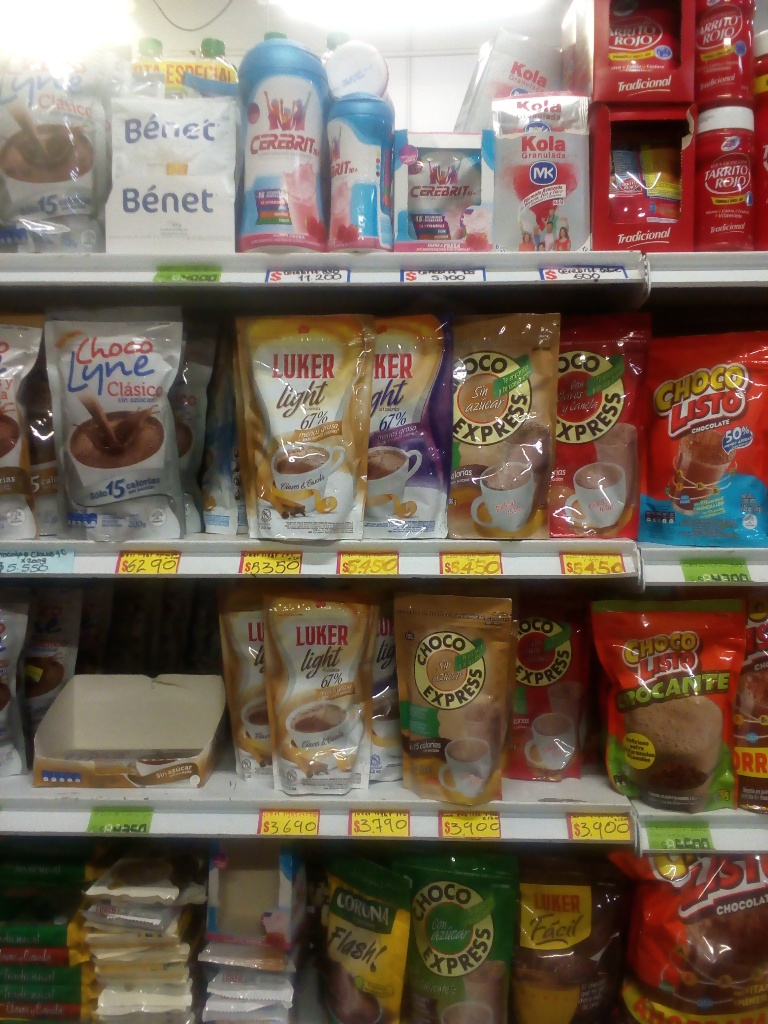COL0170104DYP20000: (643, 334, 767, 553)
